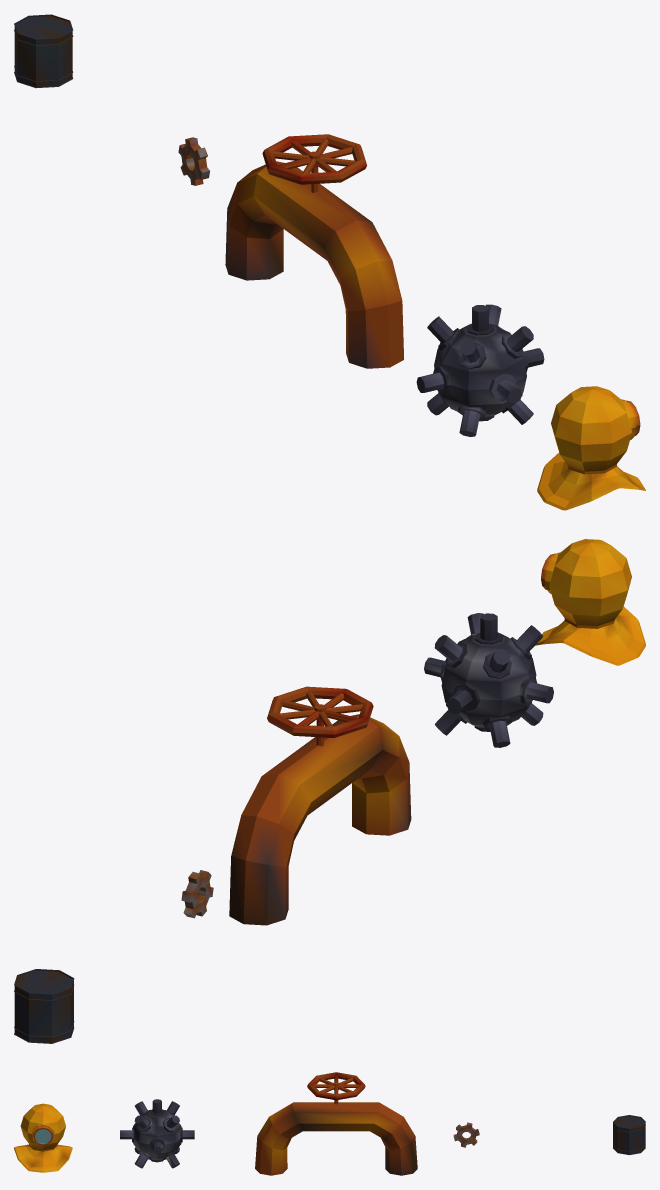
File: CenarioC1.fbx
3 renders of one model, top to bottom at view 1: azimuth 30°, elevation 25°; view 2: azimuth 150°, elevation 25°; view 3: azimuth 270°, elevation 25°, orthographic. The views are drawn at different scales.
Parts seen in each view (by area): view 1: PipeWithValve, NavalMine, ScubaHelmet, PetrolBarrel, Cog; view 2: PipeWithValve, NavalMine, ScubaHelmet, PetrolBarrel, Cog; view 3: PipeWithValve, NavalMine, ScubaHelmet, PetrolBarrel, Cog.
Boxes of the visible parts, x1,y1,x2,y2 form: PipeWithValve: (225,134,403,368); NavalMine: (416,304,544,436); ScubaHelmet: (537,386,645,510); PetrolBarrel: (14,14,73,88); Cog: (178,137,209,185); PipeWithValve: (229,686,411,925); NavalMine: (424,613,553,747); ScubaHelmet: (535,539,645,665); PetrolBarrel: (14,969,74,1043); Cog: (181,870,213,918); PipeWithValve: (255,1072,417,1175); NavalMine: (120,1099,194,1168); ScubaHelmet: (14,1103,72,1172); PetrolBarrel: (613,1115,645,1155); Cog: (453,1122,479,1147).
Bounding box in the file's own units: 228 × 290 × 1941.
